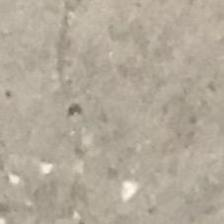Non_Crack: (19, 13, 224, 222)
